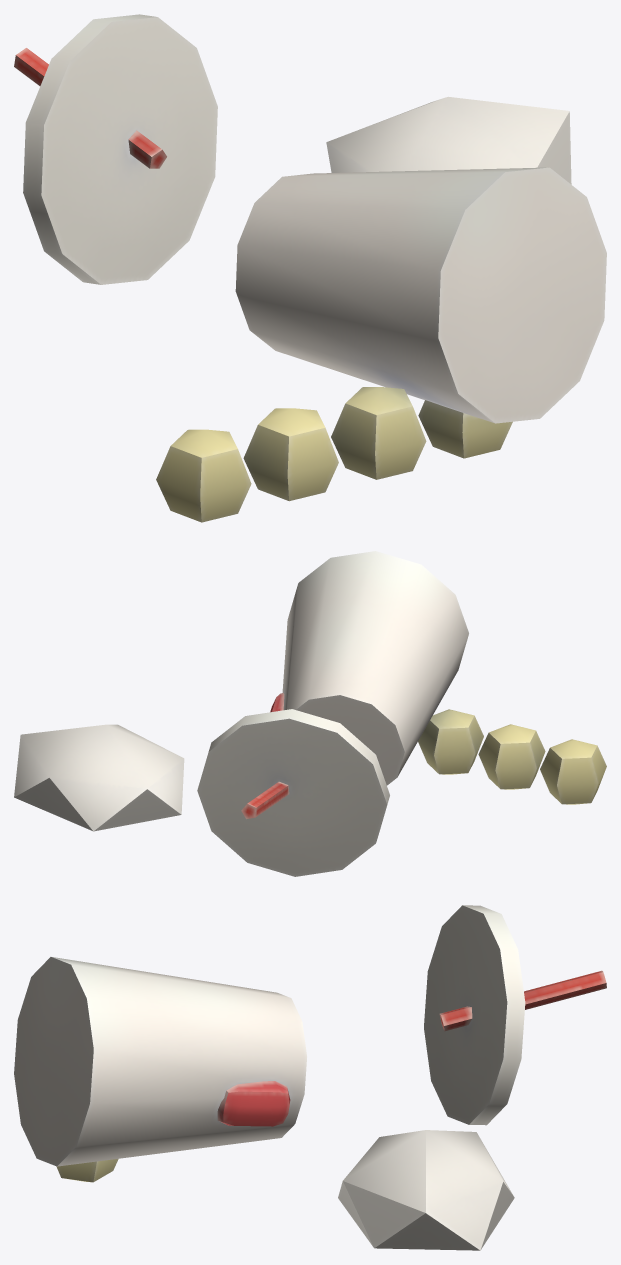
The model's file is trash.glb.
3 renders of one model, top to bottom at view 1: azimuth 30°, elevation 25°; view 2: azimuth 150°, elevation 25°; view 3: azimuth 270°, elevation 25°, orthographic. The views are drawn at different scales.
Parts seen in each view (by area): view 1: SM_Trash; view 2: SM_Trash; view 3: SM_Trash.
Part boxes in pixels (box(x1,y1,x2,y2)): SM_Trash: box(14, 14, 606, 522); SM_Trash: box(14, 551, 606, 876); SM_Trash: box(14, 905, 606, 1250).
Size of the model in its own units: 0.3534 by 0.1551 by 0.3648.
1 material, 1 textured.
